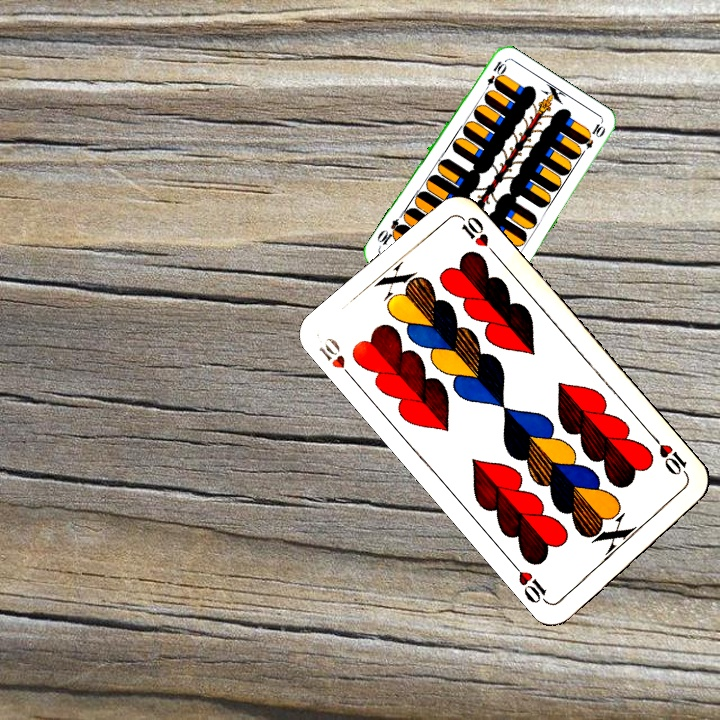E10: (480, 57, 508, 95)
H10: (314, 333, 359, 385), (649, 433, 692, 482)
